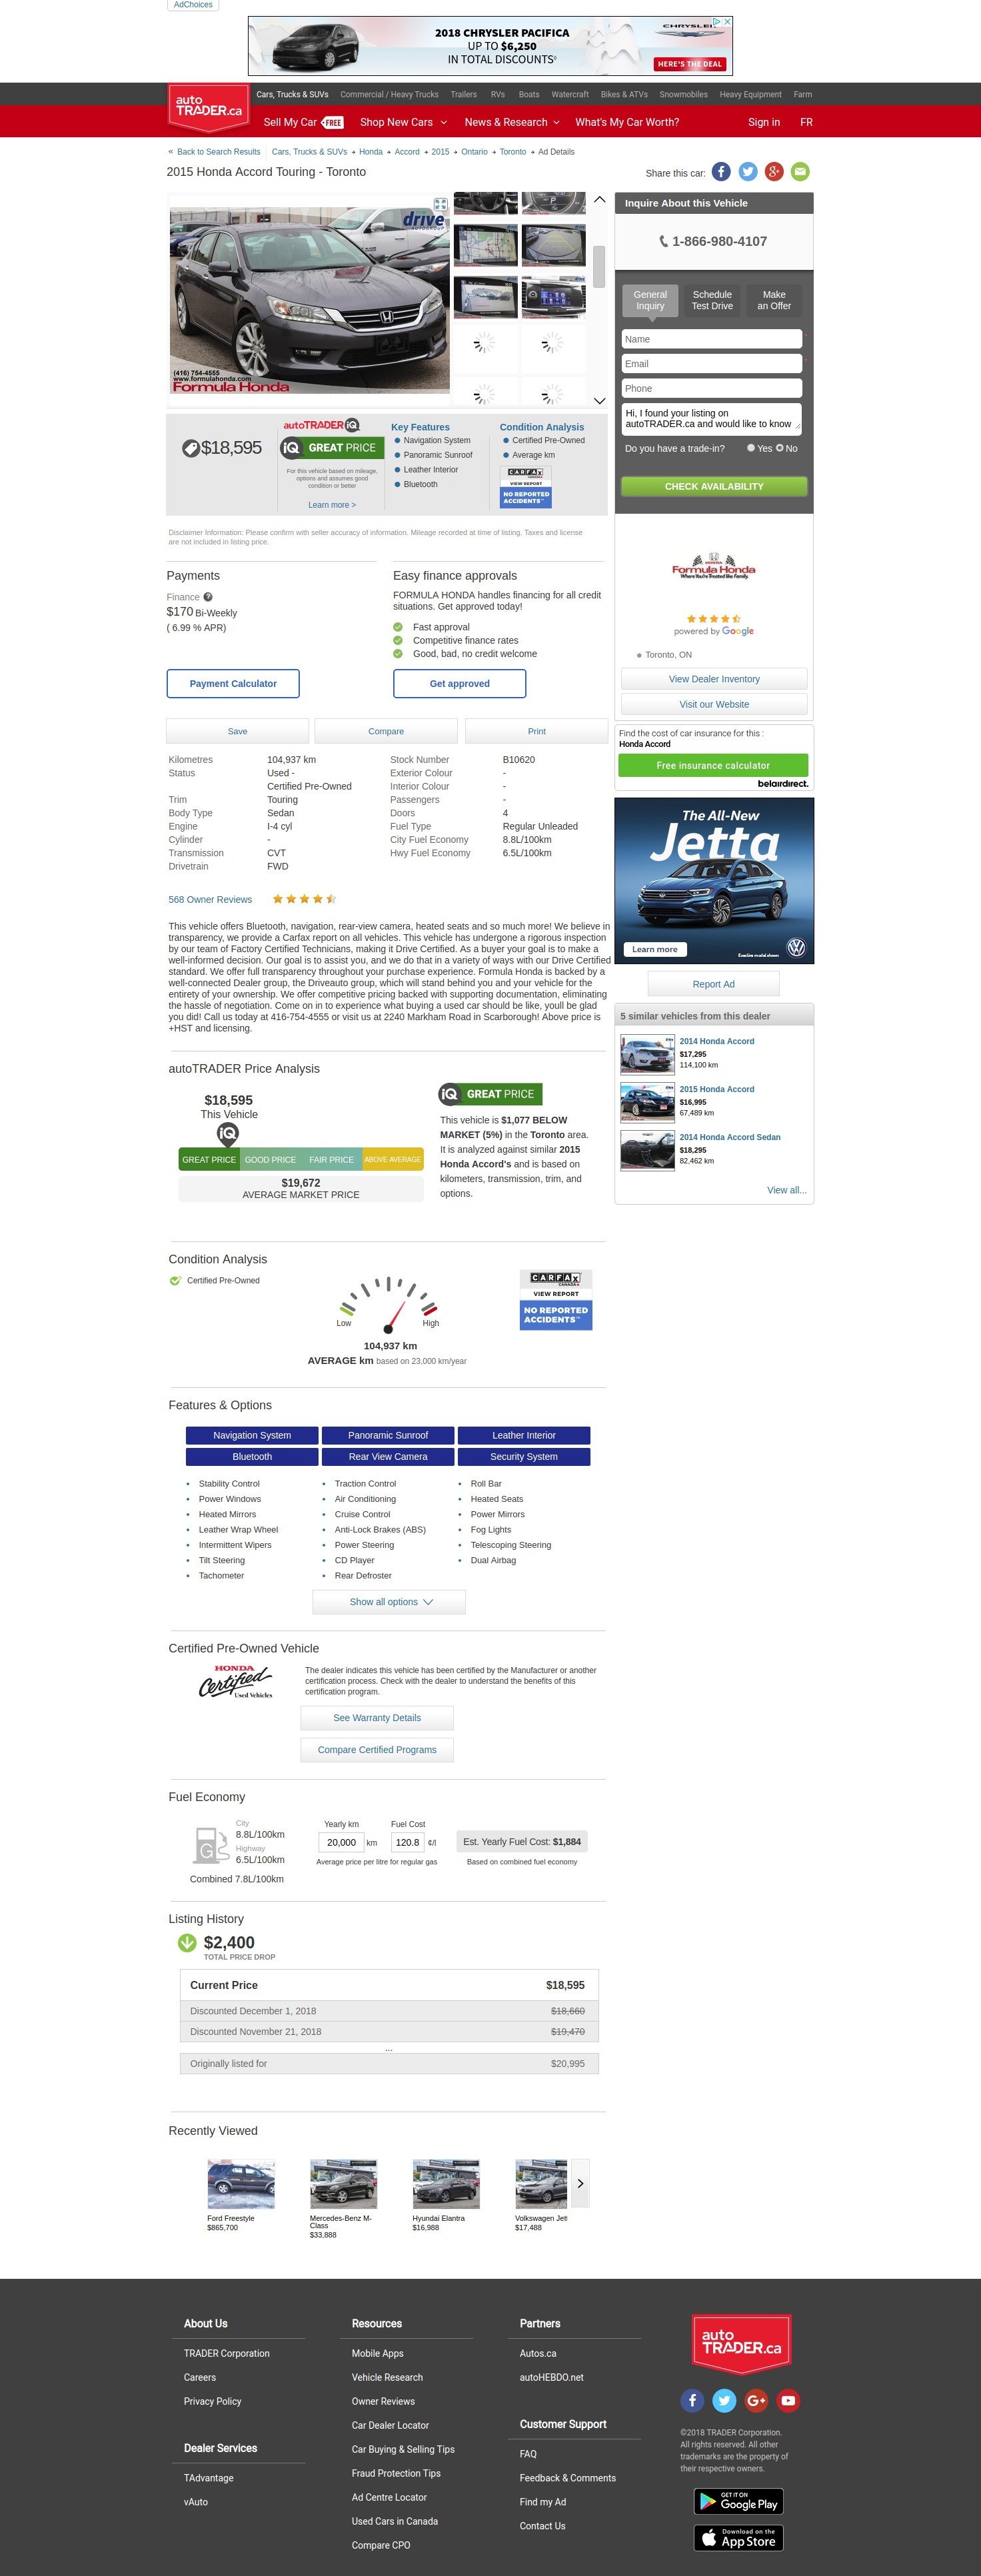car: (593, 396, 606, 406)
